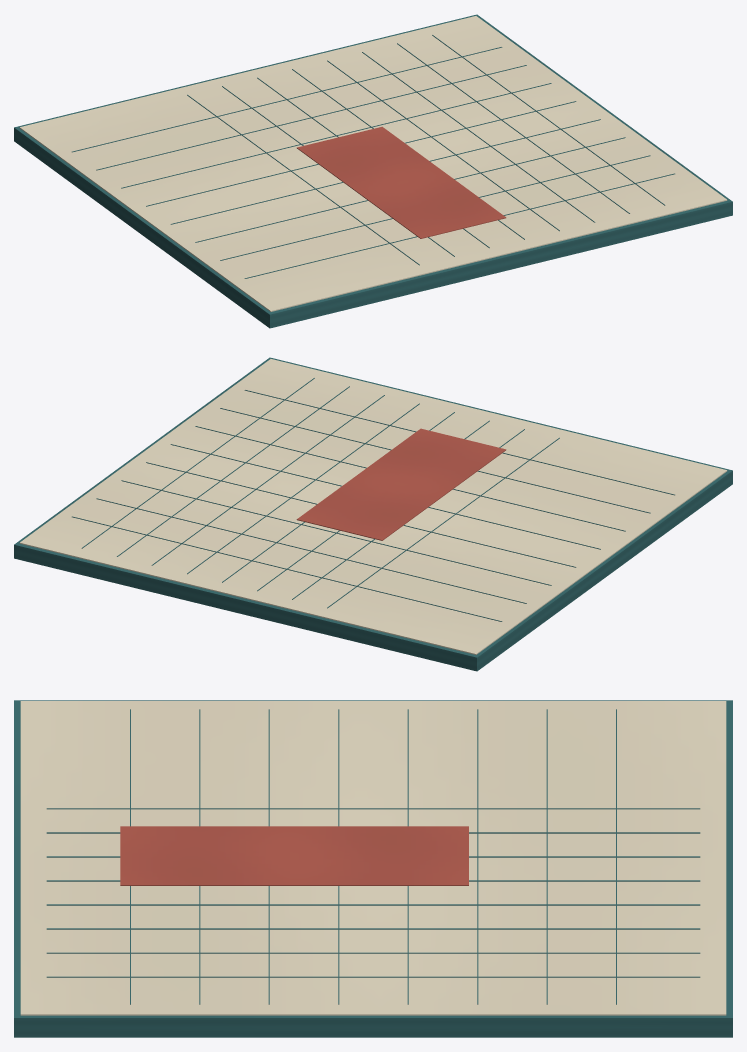
File: atlas100-s033-a07.lod1.glb
The picture shows the model from 3 angles, top to bottom: view 1: azimuth 30°, elevation 25°; view 2: azimuth 150°, elevation 25°; view 3: azimuth 270°, elevation 25°; orthographic projection. The views are drawn at different scales.
Parts seen in each view (by area): view 1: atlas100-s033-a07:part-001, atlas100-s033-a07:part-000, atlas100-s033-a07:part-021, atlas100-s033-a07:part-013, atlas100-s033-a07:part-014, atlas100-s033-a07:part-015, atlas100-s033-a07:part-020, atlas100-s033-a07:part-019, atlas100-s033-a07:part-018, atlas100-s033-a07:part-016, atlas100-s033-a07:part-017; view 2: atlas100-s033-a07:part-001, atlas100-s033-a07:part-000, atlas100-s033-a07:part-021, atlas100-s033-a07:part-013, atlas100-s033-a07:part-015, atlas100-s033-a07:part-014, atlas100-s033-a07:part-020, atlas100-s033-a07:part-016, atlas100-s033-a07:part-017, atlas100-s033-a07:part-018, atlas100-s033-a07:part-019; view 3: atlas100-s033-a07:part-001, atlas100-s033-a07:part-000, atlas100-s033-a07:part-021, atlas100-s033-a07:part-010, atlas100-s033-a07:part-009, atlas100-s033-a07:part-012, atlas100-s033-a07:part-005, atlas100-s033-a07:part-011, atlas100-s033-a07:part-006, atlas100-s033-a07:part-007, atlas100-s033-a07:part-008, atlas100-s033-a07:part-014 (+1 smaller).
Boxes of the visible parts, left/top/right/bottom form: atlas100-s033-a07:part-001: left=19, top=16, right=727, bottom=311; atlas100-s033-a07:part-000: left=14, top=14, right=732, bottom=328; atlas100-s033-a07:part-021: left=297, top=126, right=506, bottom=238; atlas100-s033-a07:part-013: left=72, top=47, right=502, bottom=152; atlas100-s033-a07:part-014: left=96, top=65, right=526, bottom=170; atlas100-s033-a07:part-015: left=121, top=83, right=551, bottom=188; atlas100-s033-a07:part-020: left=244, top=173, right=674, bottom=278; atlas100-s033-a07:part-019: left=220, top=155, right=650, bottom=260; atlas100-s033-a07:part-018: left=195, top=137, right=625, bottom=242; atlas100-s033-a07:part-016: left=146, top=101, right=576, bottom=206; atlas100-s033-a07:part-017: left=170, top=119, right=600, bottom=224; atlas100-s033-a07:part-001: left=19, top=359, right=727, bottom=654; atlas100-s033-a07:part-000: left=14, top=357, right=732, bottom=671; atlas100-s033-a07:part-021: left=296, top=428, right=506, bottom=540; atlas100-s033-a07:part-013: left=72, top=516, right=502, bottom=621; atlas100-s033-a07:part-015: left=121, top=480, right=551, bottom=585; atlas100-s033-a07:part-014: left=96, top=498, right=526, bottom=603; atlas100-s033-a07:part-020: left=244, top=390, right=674, bottom=495; atlas100-s033-a07:part-016: left=146, top=462, right=576, bottom=567; atlas100-s033-a07:part-017: left=170, top=444, right=600, bottom=549; atlas100-s033-a07:part-018: left=195, top=426, right=625, bottom=531; atlas100-s033-a07:part-019: left=220, top=408, right=650, bottom=513; atlas100-s033-a07:part-001: left=20, top=701, right=726, bottom=1015; atlas100-s033-a07:part-000: left=14, top=700, right=732, bottom=1037; atlas100-s033-a07:part-021: left=120, top=826, right=468, bottom=885; atlas100-s033-a07:part-010: left=46, top=928, right=700, bottom=929; atlas100-s033-a07:part-009: left=46, top=904, right=700, bottom=905; atlas100-s033-a07:part-012: left=46, top=976, right=700, bottom=977; atlas100-s033-a07:part-005: left=46, top=808, right=700, bottom=809; atlas100-s033-a07:part-011: left=46, top=952, right=700, bottom=953; atlas100-s033-a07:part-006: left=46, top=832, right=700, bottom=833; atlas100-s033-a07:part-007: left=46, top=856, right=700, bottom=857; atlas100-s033-a07:part-008: left=46, top=880, right=700, bottom=881; atlas100-s033-a07:part-014: left=546, top=709, right=547, bottom=1004.
Size of the model in its own units: 11.9 by 0.404 by 11.39.
3 materials, 3 textured.
